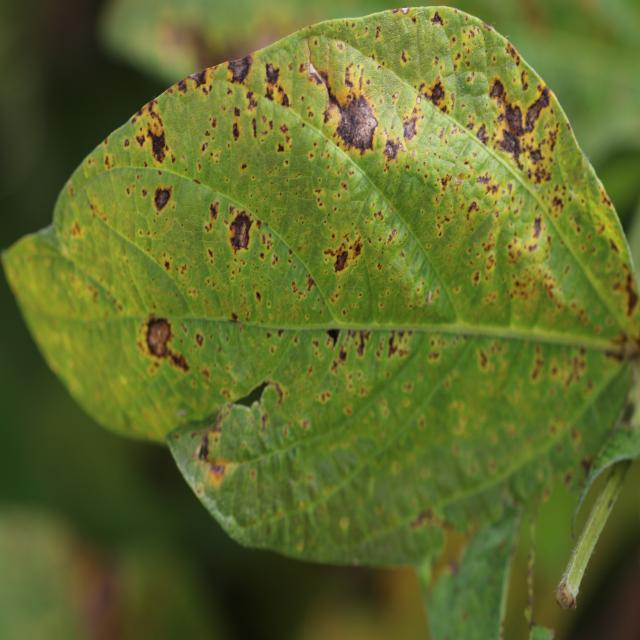Bacterial_Blight: (504, 213, 555, 296), (138, 313, 191, 373), (333, 91, 379, 151), (544, 344, 589, 391), (493, 92, 529, 150), (224, 199, 256, 257), (261, 60, 290, 106), (524, 86, 551, 132), (619, 267, 640, 317), (602, 336, 640, 363), (147, 125, 168, 164), (226, 55, 253, 85), (263, 379, 285, 406), (195, 430, 213, 462), (530, 347, 546, 381), (427, 78, 446, 106), (388, 330, 407, 357), (382, 136, 402, 161), (153, 186, 172, 212), (402, 115, 420, 142), (411, 507, 435, 527), (187, 69, 210, 89), (527, 145, 546, 169), (489, 78, 507, 103), (356, 330, 371, 357), (265, 61, 281, 86), (333, 249, 349, 273), (621, 399, 636, 424), (208, 462, 226, 481), (476, 172, 494, 190), (580, 455, 594, 478), (326, 328, 341, 349), (551, 192, 565, 212), (438, 173, 452, 191), (246, 91, 258, 112), (532, 216, 543, 238), (430, 10, 444, 26), (466, 200, 479, 217), (69, 220, 82, 237), (478, 349, 488, 368), (306, 275, 316, 292), (210, 202, 219, 219), (338, 346, 347, 363), (232, 122, 240, 140), (472, 271, 480, 286), (136, 134, 145, 147), (400, 50, 408, 64), (374, 26, 382, 40), (163, 259, 171, 271), (255, 290, 262, 303), (374, 210, 383, 220), (277, 142, 285, 153), (280, 123, 288, 134), (234, 106, 241, 117), (207, 248, 214, 259), (211, 117, 217, 129), (231, 312, 238, 322), (202, 142, 209, 151), (124, 138, 130, 147), (241, 163, 247, 171)
Soybean: (4, 8, 640, 565)
